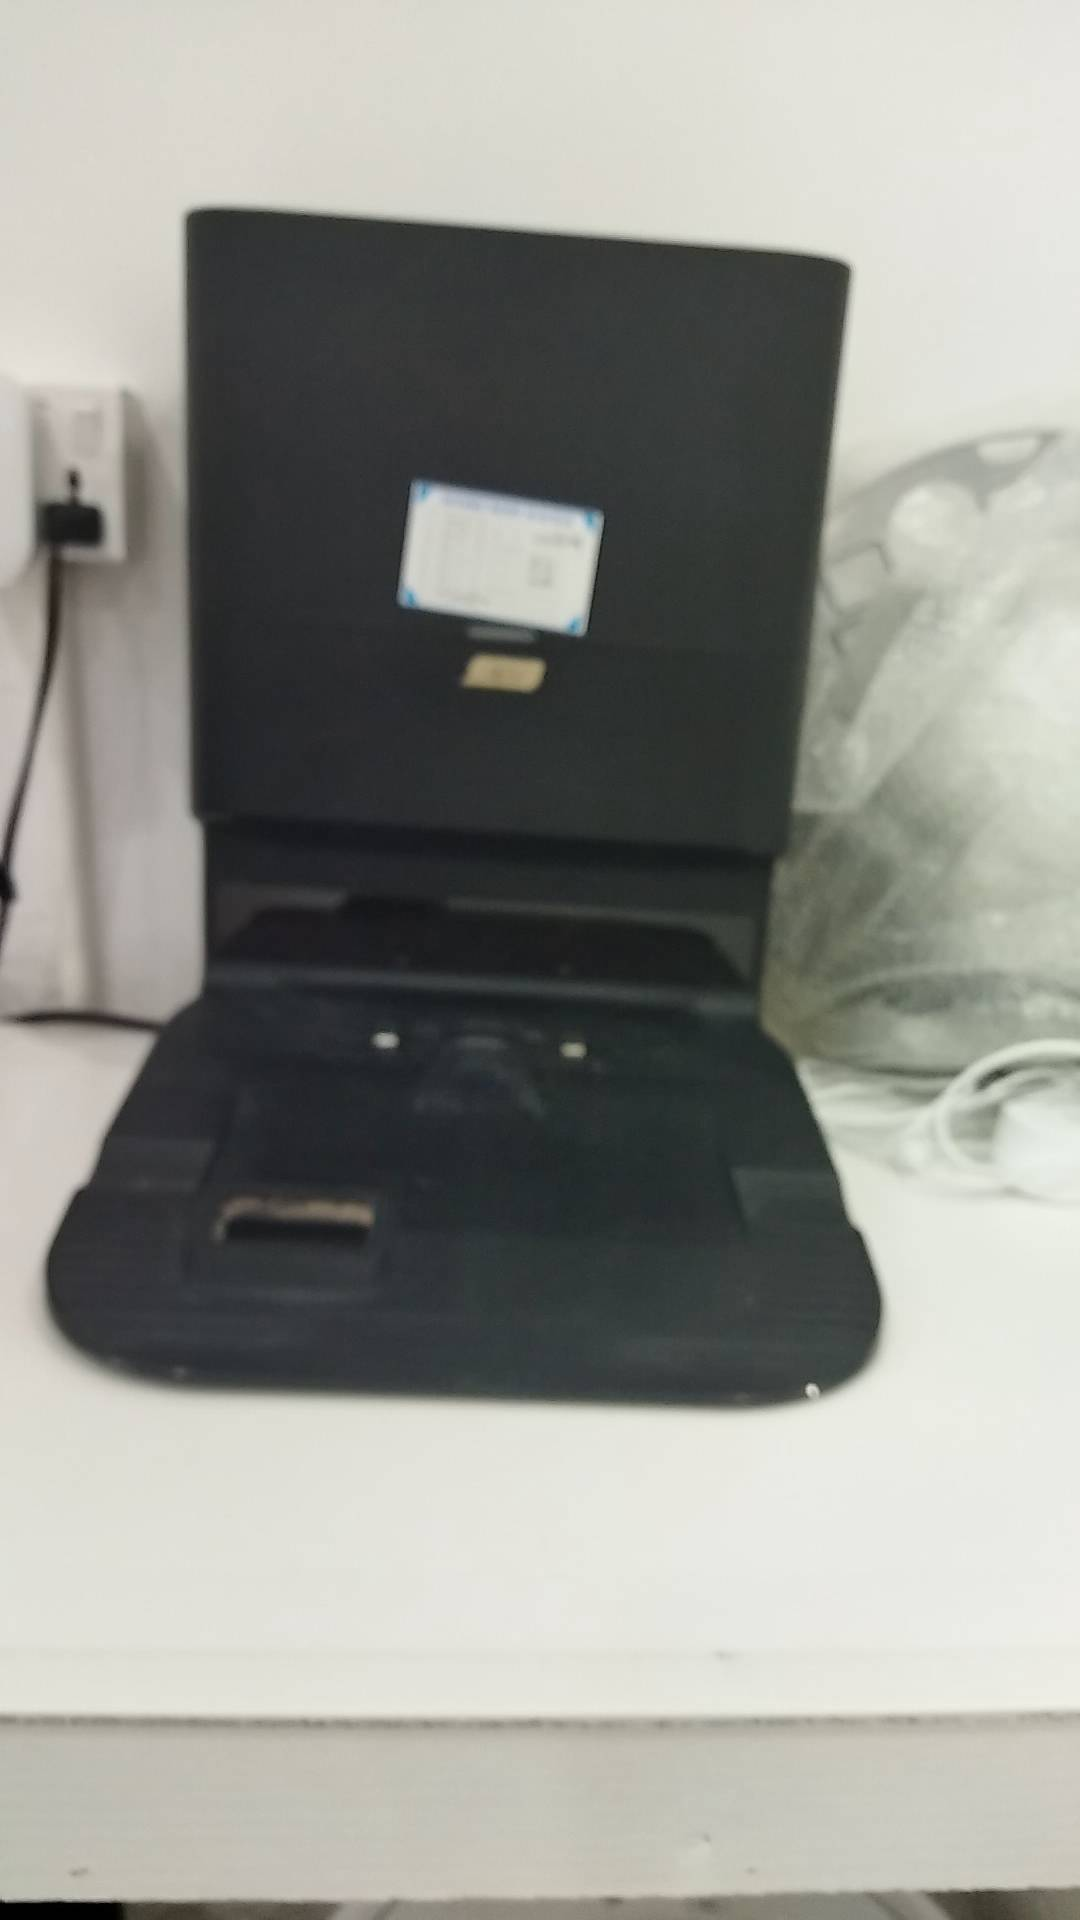dust collecting barrel: (47, 208, 877, 1418)
